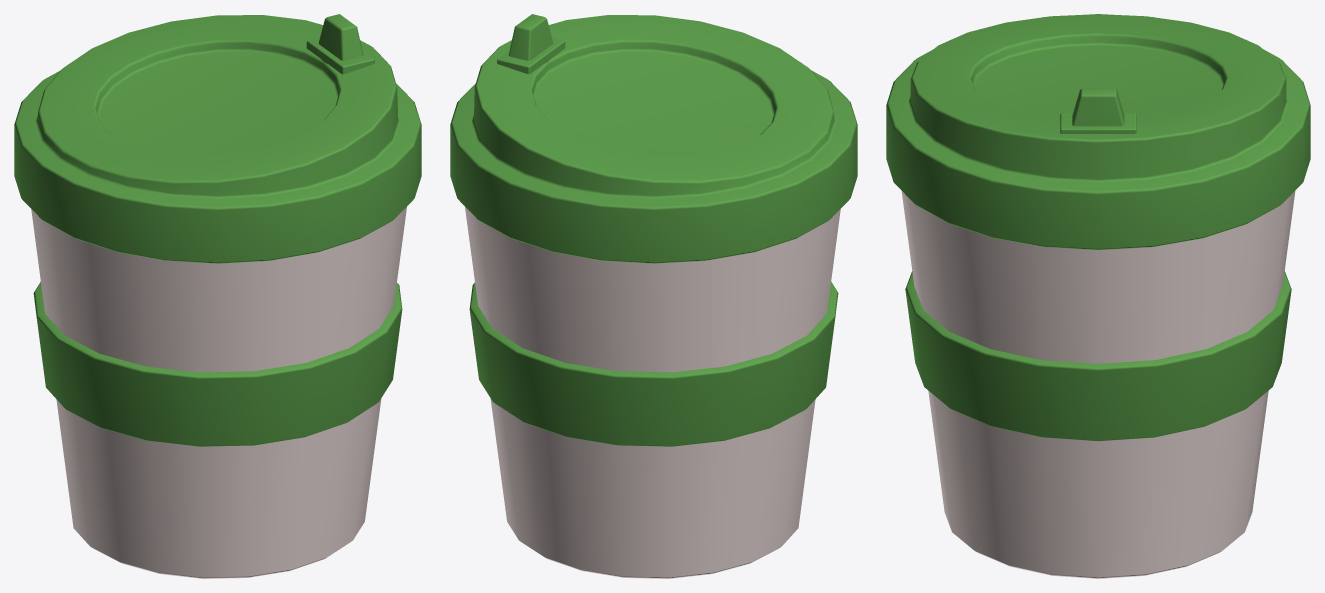
Rendered from Coffee_Cup_To_Go.fbx.
3 views of the same model, side by side, from view 1: azimuth 30°, elevation 25°; view 2: azimuth 150°, elevation 25°; view 3: azimuth 270°, elevation 25° (orthographic). The views are drawn at different scales.
Visible parts, largest first — view 1: Coffee_Cup_To_Go; view 2: Coffee_Cup_To_Go; view 3: Coffee_Cup_To_Go.
Boxes of the visible parts, <box> form: Coffee_Cup_To_Go: <box>14,14,421,578</box>; Coffee_Cup_To_Go: <box>450,14,857,578</box>; Coffee_Cup_To_Go: <box>886,14,1310,578</box>.
Size of the model in its own units: 13.44 by 17.04 by 13.44.
